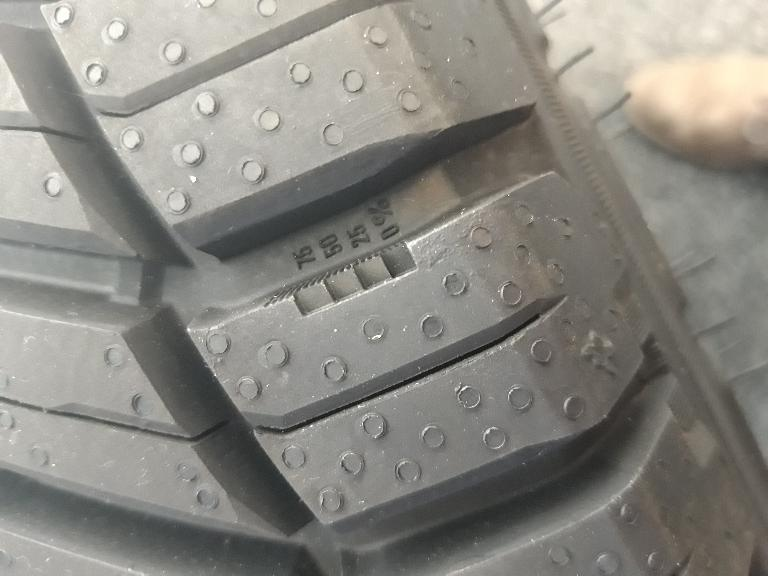temoin:100: (254, 233, 427, 326)
